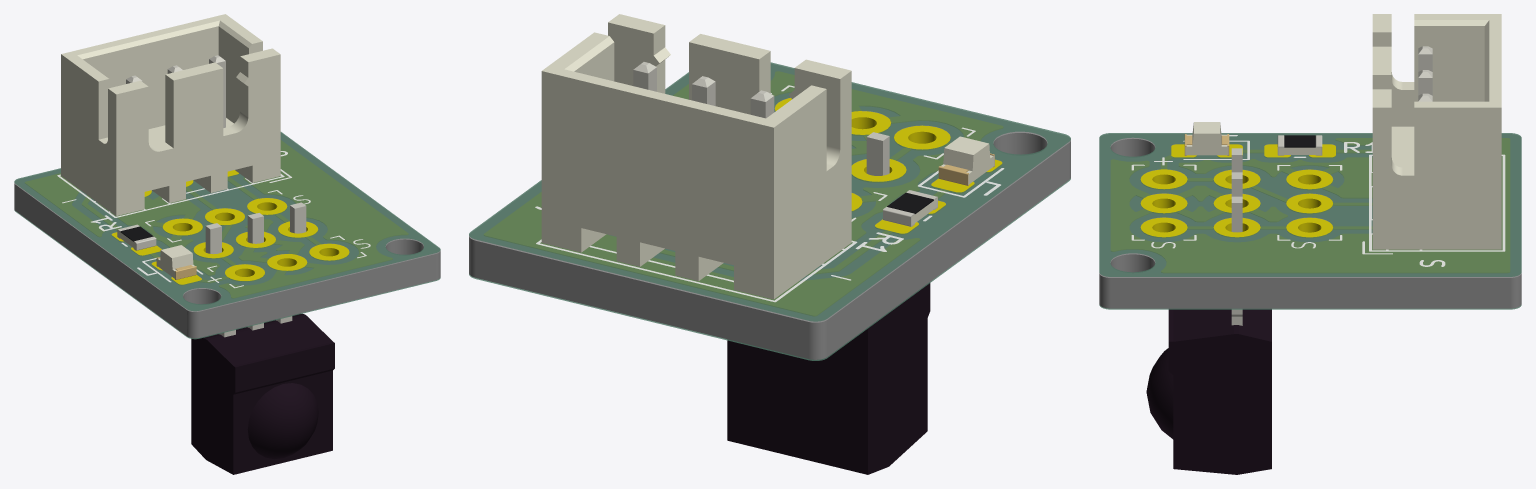
File: tsop.glb
The picture shows the model from 3 angles, left to right: view 1: azimuth 30°, elevation 25°; view 2: azimuth 150°, elevation 25°; view 3: azimuth 270°, elevation 25°; orthographic projection. The views are drawn at different scales.
Visible parts, largest first — view 1: =>[0:1:1:9], tsopPin, J3; view 2: tsopPin, =>[0:1:1:9], J3; view 3: =>[0:1:1:9], tsopPin, J3.
Boxes of the visible parts, x1,y1,x2,y2 form: =>[0:1:1:9]: [14, 132, 440, 339]; tsopPin: [61, 14, 280, 216]; J3: [191, 202, 334, 474]; tsopPin: [541, 14, 851, 299]; =>[0:1:1:9]: [469, 62, 1070, 360]; J3: [727, 132, 930, 474]; =>[0:1:1:9]: [1099, 122, 1521, 309]; tsopPin: [1372, 14, 1501, 249]; J3: [1146, 148, 1271, 474].
Size of the model in its own units: 0.3751 by 0.4694 by 0.4652.
